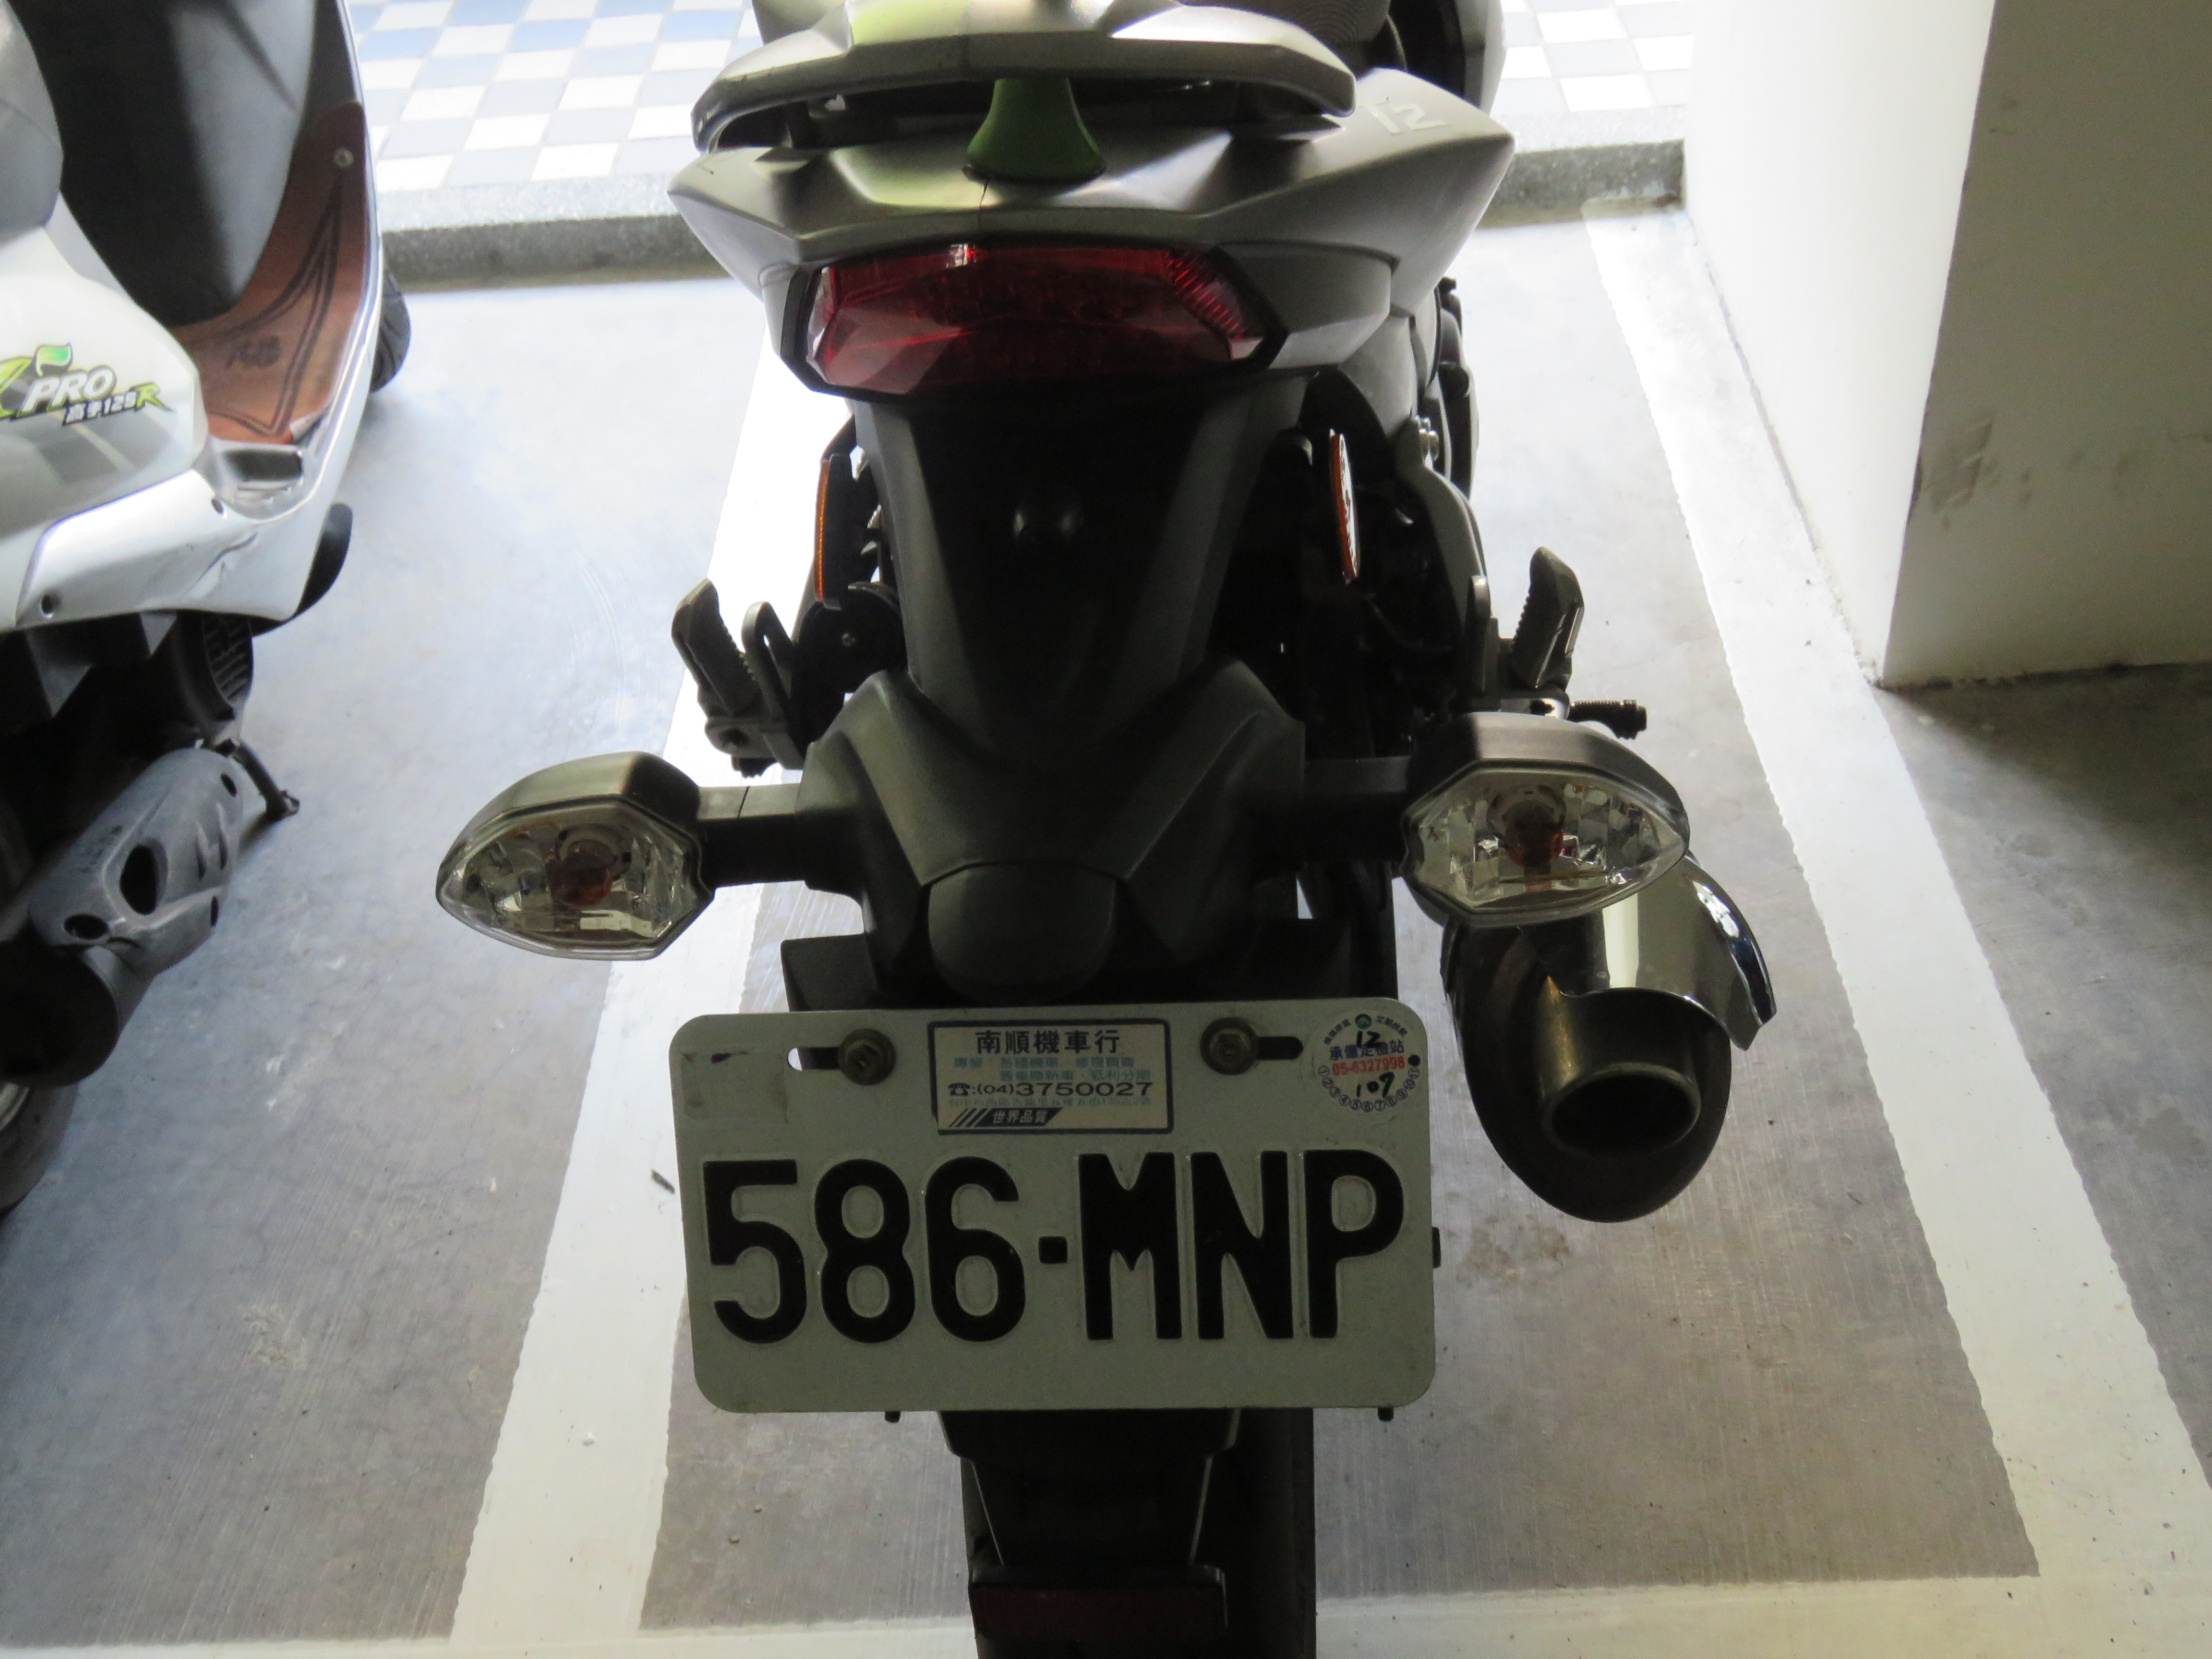car_card: (679, 1023, 1423, 1399)
moto: (425, 0, 1771, 1636)
